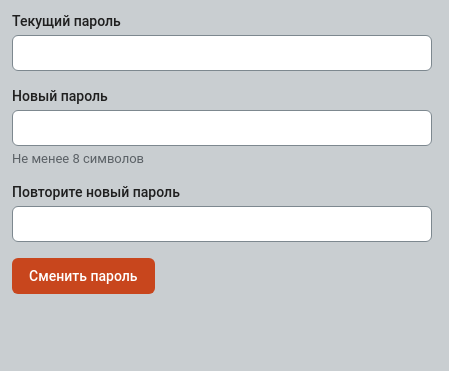
it: PasswordChangeForm › неверный текущий пароль (400 сервера) показан в форме и не выбрасывает из системы
The width and height of the screenshot is (449, 371).
Type "wrong-password" into the password field labelled "Текущий пароль" at coordinates (222, 53), box [12,35,432,71]
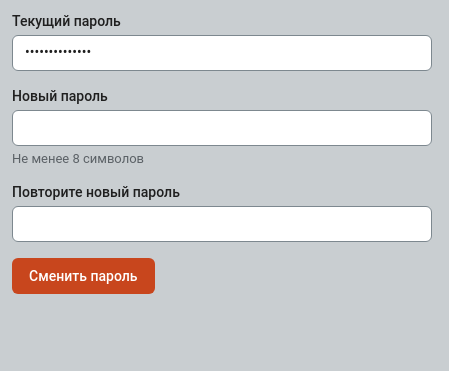
Type "новый-пароль-42" into the password field labelled "Новый пароль" at coordinates (222, 128), box [12,110,432,146]
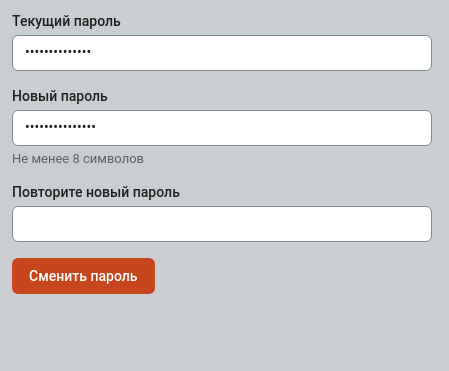
Type "новый-пароль-42" into the password field labelled "Повторите новый пароль" at coordinates (222, 224), box [12,206,432,242]
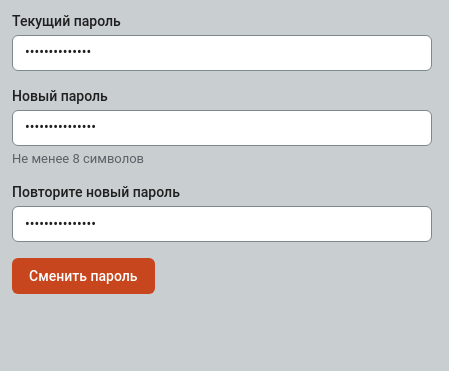
Click the button "Сменить пароль" at coordinates (83, 276), box [12,258,154,294]
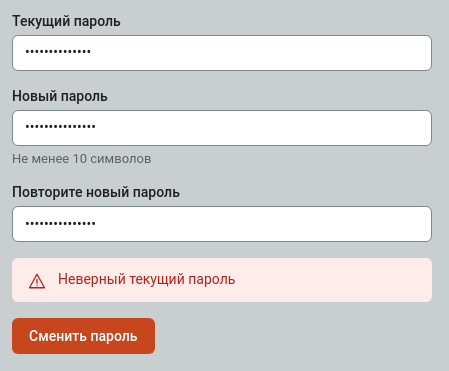
Expected: the message reads "Неверный текущий пароль", [58,271,235,287]
